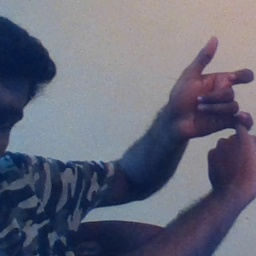S: (162, 32, 256, 185)
